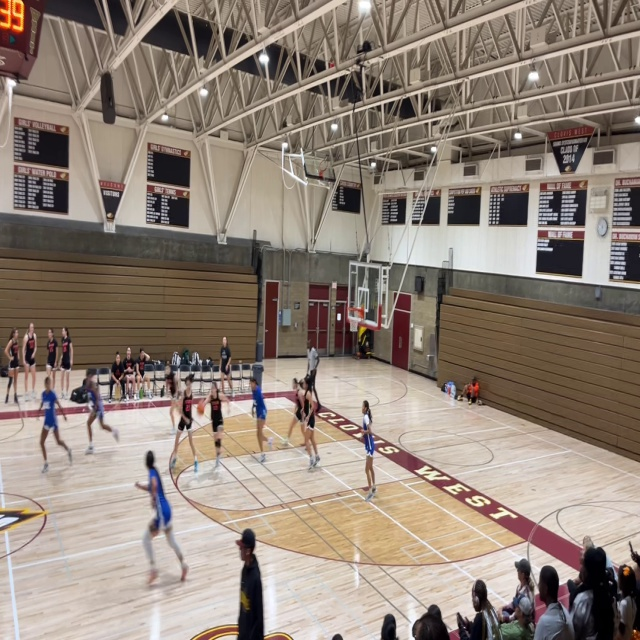Basketball: (197, 403, 204, 414)
